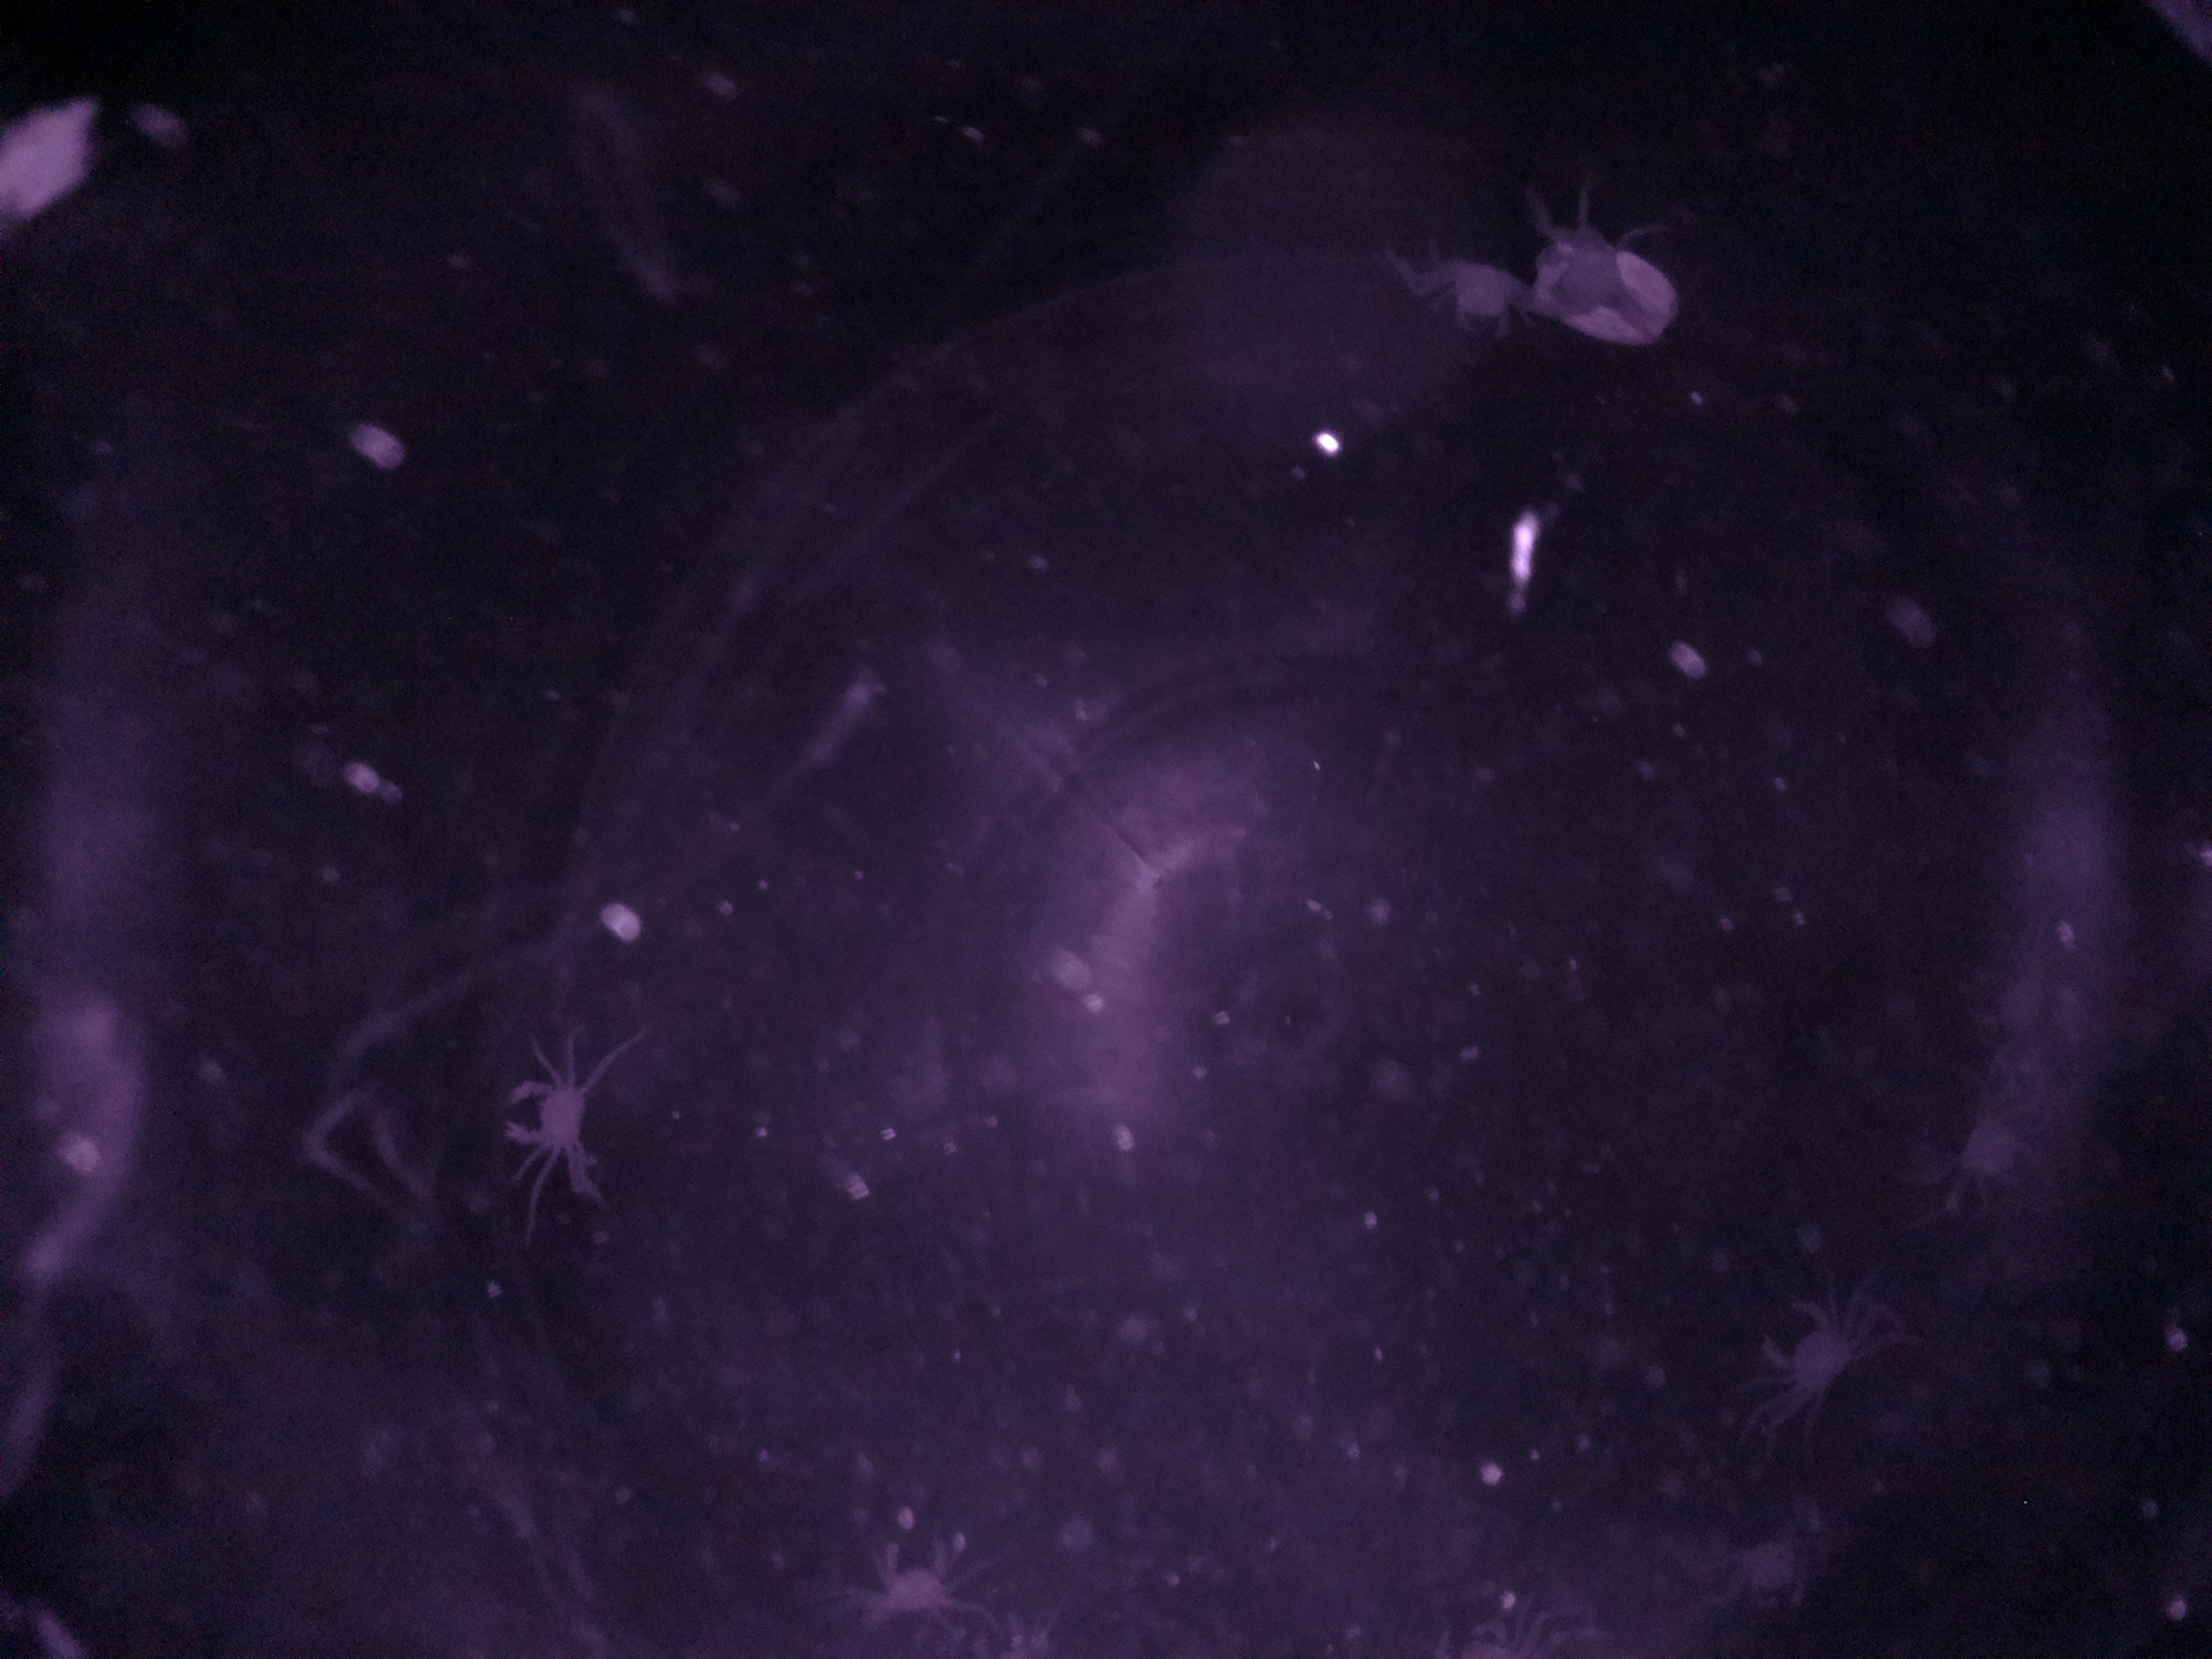Crab: (1743, 1279, 1874, 1420), (846, 1511, 979, 1647), (482, 1053, 618, 1176), (1420, 246, 1540, 350)
